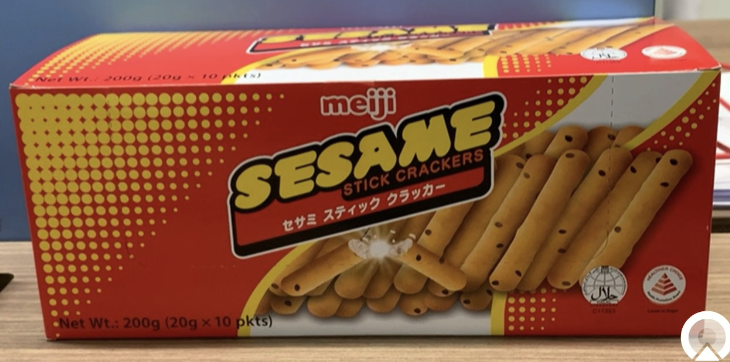crackers_150g: (43, 61, 687, 334)
